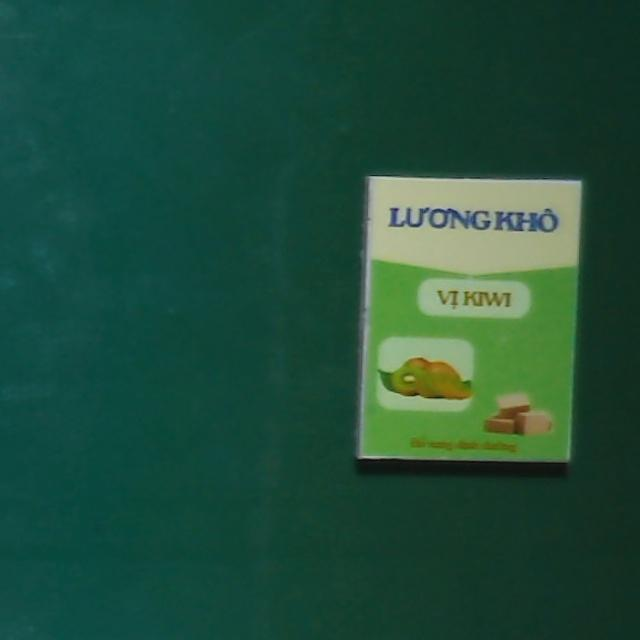kiwi: (354, 172, 582, 467)
